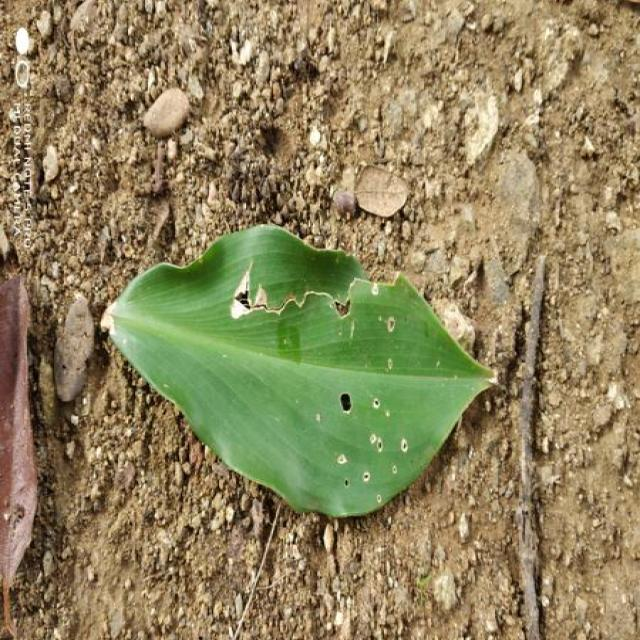Anthracnose: (105, 225, 493, 516)
insulin: (105, 225, 493, 516)
